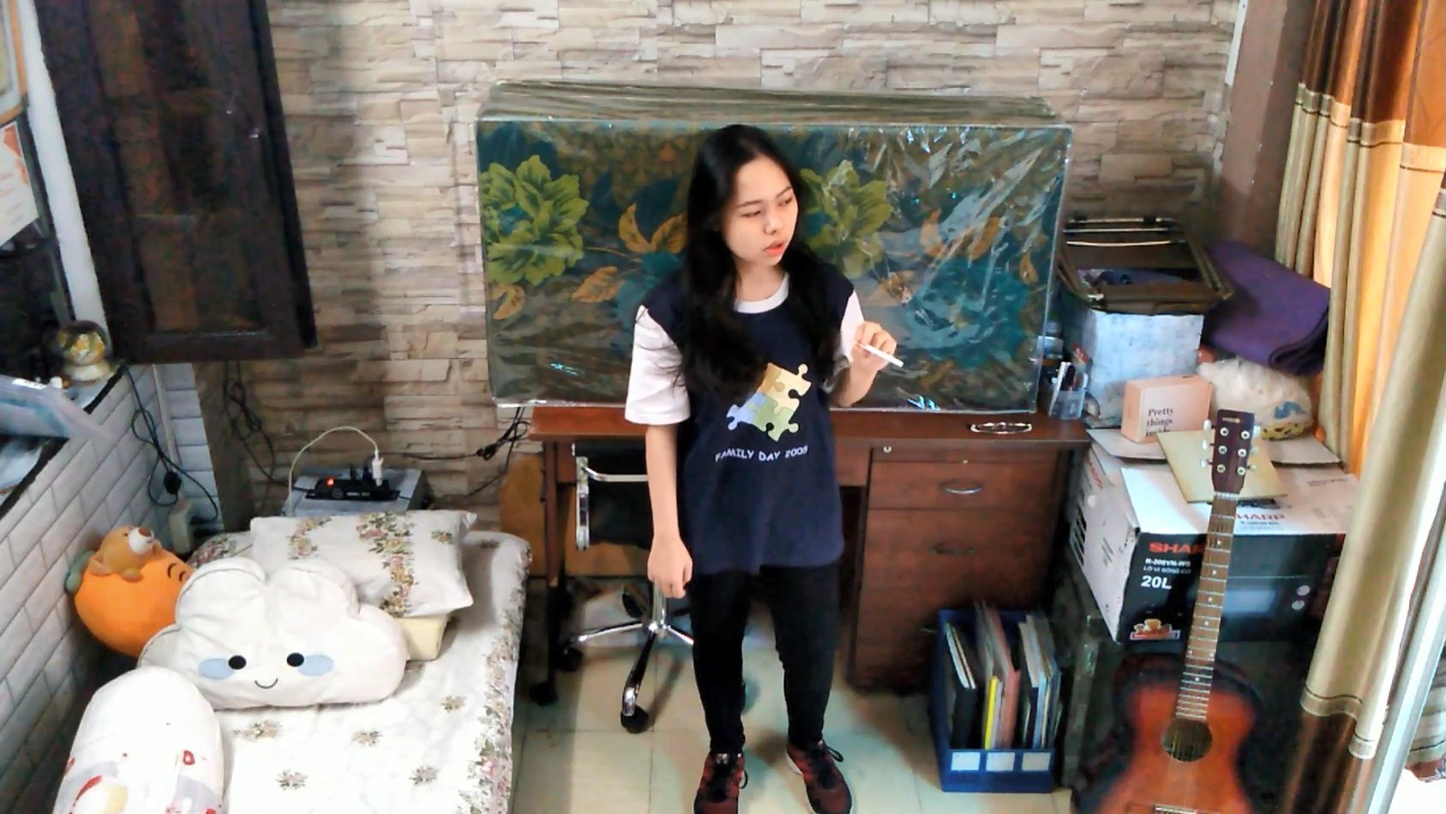cigarette: (856, 337, 910, 374)
person: (623, 108, 924, 814)
